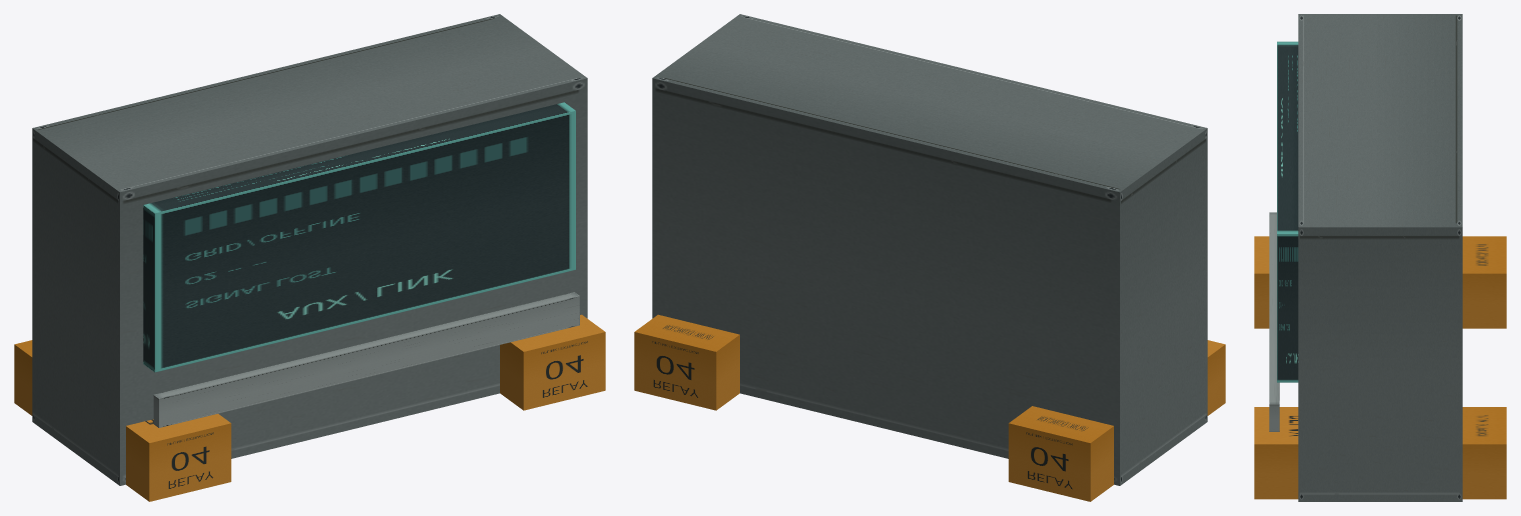
The model's file is barricade_2m_LOD2.obj.
The picture shows the model from 3 angles, left to right: view 1: azimuth 30°, elevation 25°; view 2: azimuth 150°, elevation 25°; view 3: azimuth 270°, elevation 25°; orthographic projection. The views are drawn at different scales.
Parts seen in each view (by area): view 1: L02_barricade_2m_LOD2; view 2: L02_barricade_2m_LOD2; view 3: L02_barricade_2m_LOD2.
Boxes of the visible parts, box(x1,y1,x2,y2) form: L02_barricade_2m_LOD2: box(14, 14, 605, 501); L02_barricade_2m_LOD2: box(634, 14, 1225, 501); L02_barricade_2m_LOD2: box(1254, 14, 1506, 501).
Bounding box in the file's own units: 2 × 1.2 × 1.
Materials: 1 (1 with a texture image).
